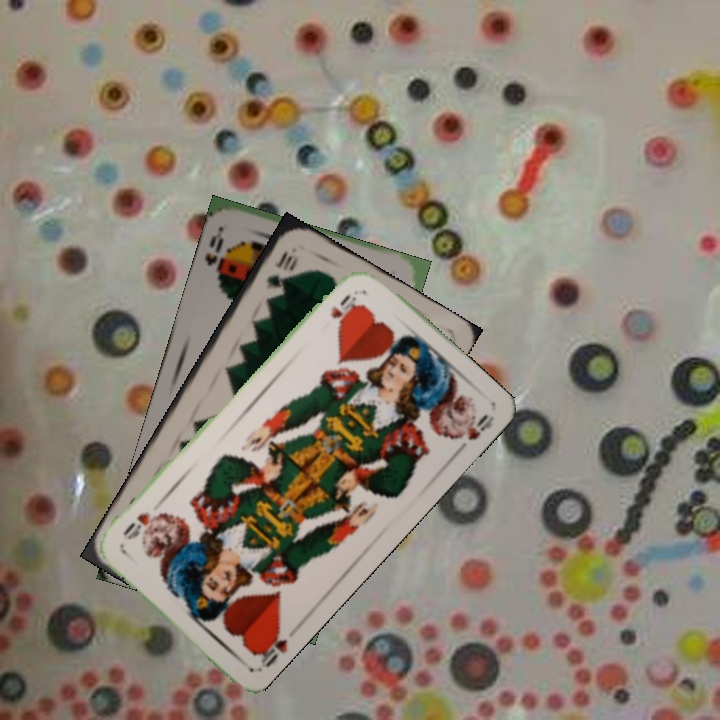G10: (262, 246, 298, 292)
HO: (249, 623, 290, 673), (326, 287, 361, 321)
SO: (200, 223, 229, 285)
